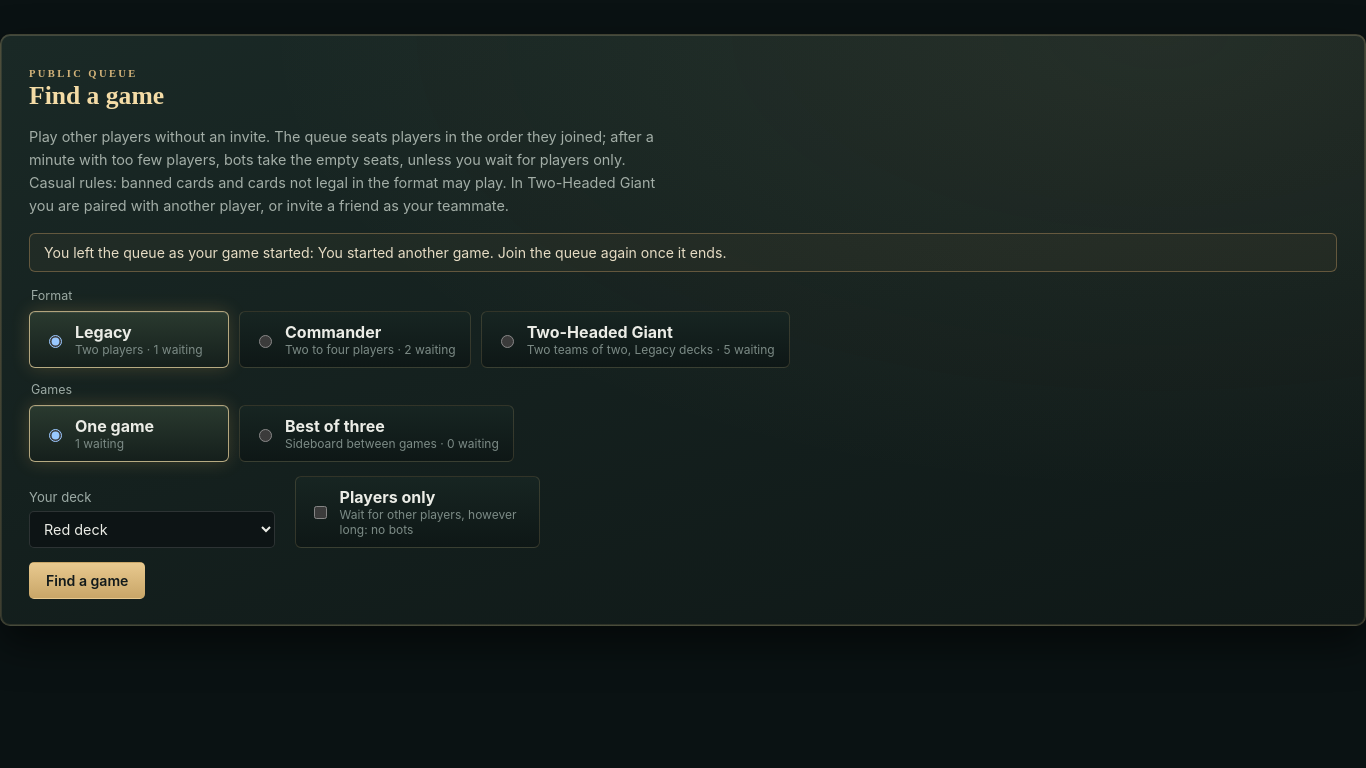
Test case: finding a game › says why the last wait ended, and what a join was refused for
Expected: the text "You left the queue as your game started: You started another game. Join the queue again once it ends." is shown, [44,244,726,261]
Click the button "Find a game". click: (87, 581)
box: [29,562,145,599]
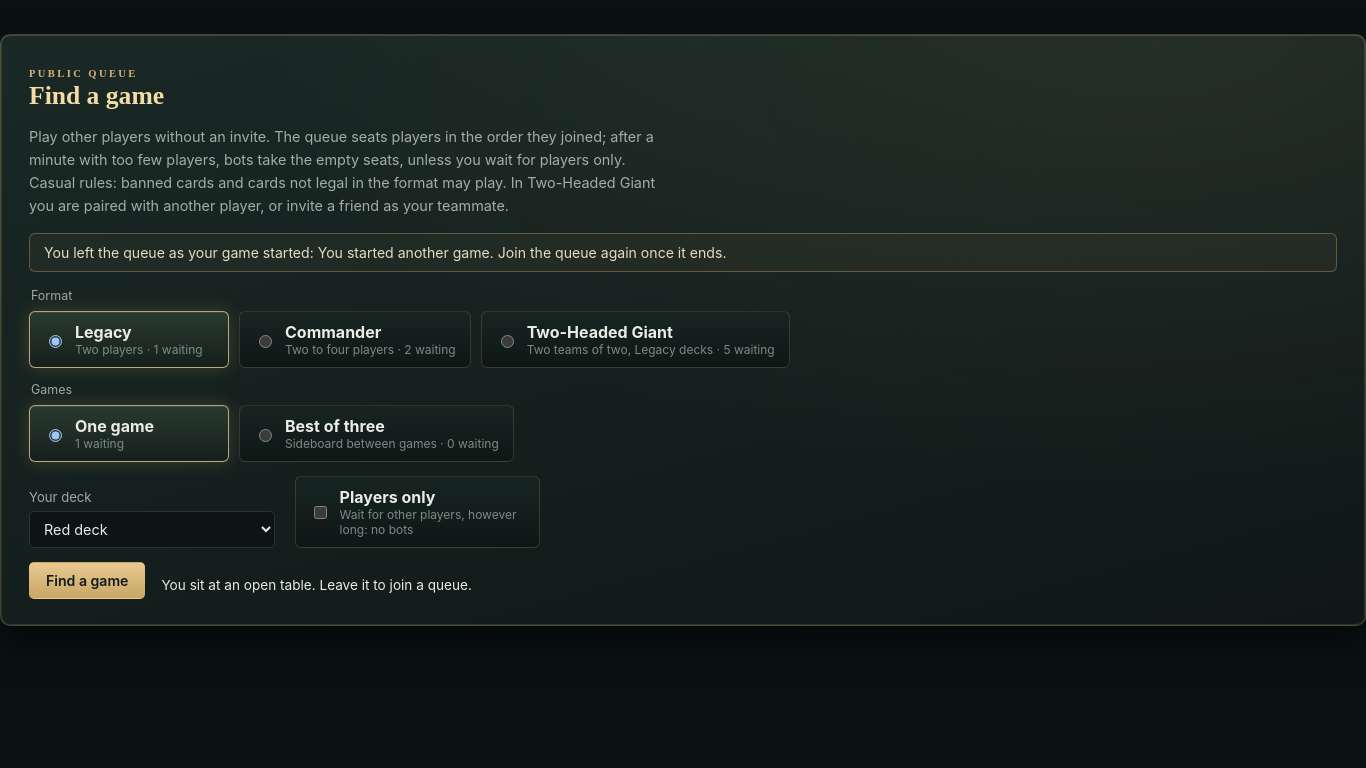
Now the message "You sit at an open table. Leave it to join a queue." is shown, box [161,577,472,593]
